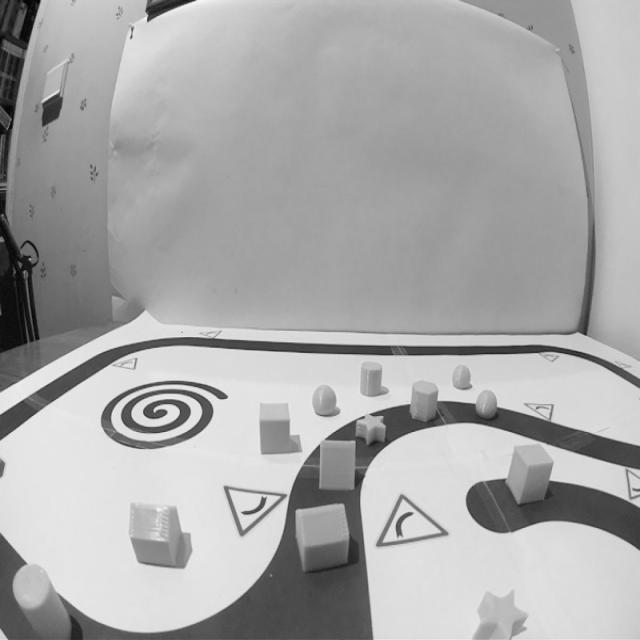ball: (310, 380, 340, 419), (474, 386, 500, 423), (450, 360, 472, 392)
cube: (504, 438, 557, 511), (257, 400, 294, 459)
cylinder: (12, 562, 74, 640), (356, 359, 386, 402)
hexagon: (409, 374, 440, 429)
home: (292, 497, 353, 574), (126, 498, 184, 573)
nest: (97, 374, 233, 459)
rightTurn: (356, 477, 451, 566)
star: (471, 585, 530, 640), (354, 412, 389, 448)
triangle: (317, 436, 359, 495)
